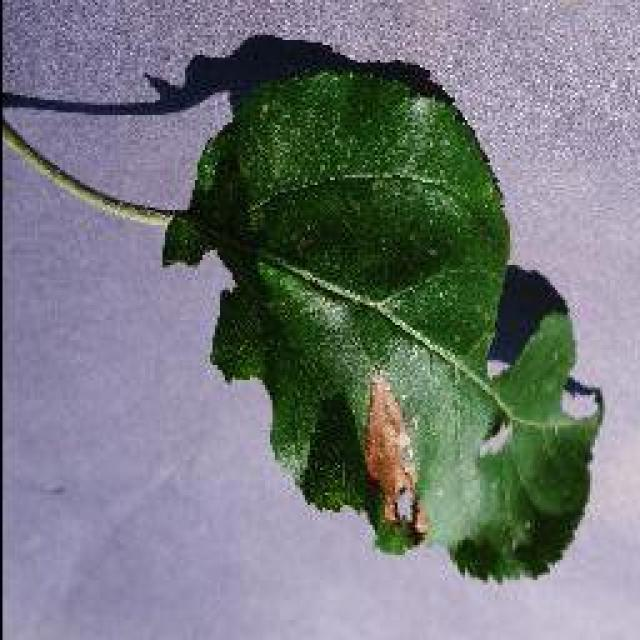apple black rot: (0, 28, 605, 582)
